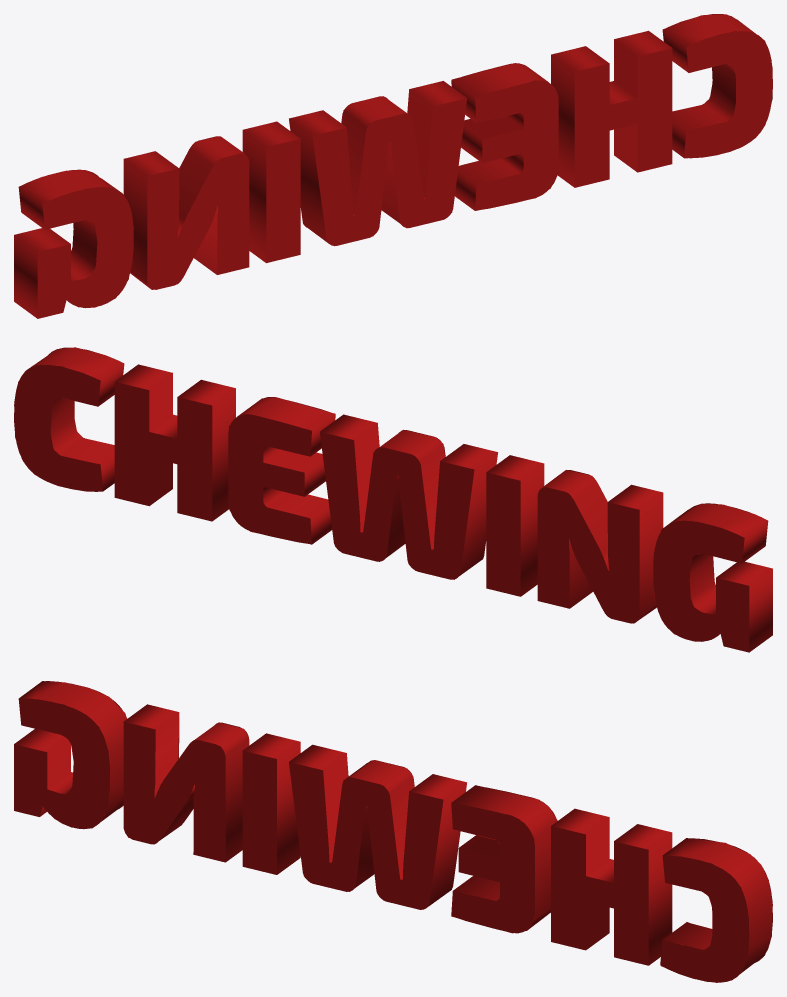
File: chewing.fbx
3 views of the same model, one above another, from view 1: azimuth 30°, elevation 25°; view 2: azimuth 150°, elevation 25°; view 3: azimuth 330°, elevation 25° (orthographic).
Parts seen in each view (by area): view 1: Text; view 2: Text; view 3: Text.
Part boxes in pixels (x1,y1,x2,y2): Text: (14,14,772,318); Text: (14,347,772,652); Text: (14,681,772,982).
Size of the model in its own units: 14.33 by 2.26 by 0.8.
